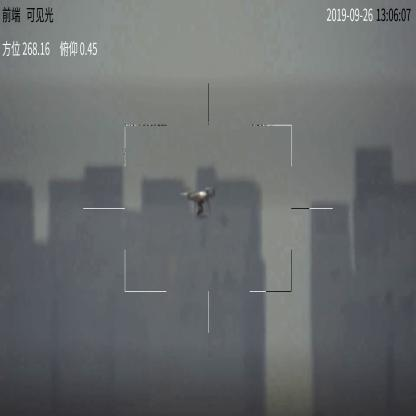uav: (182, 185, 218, 219)
